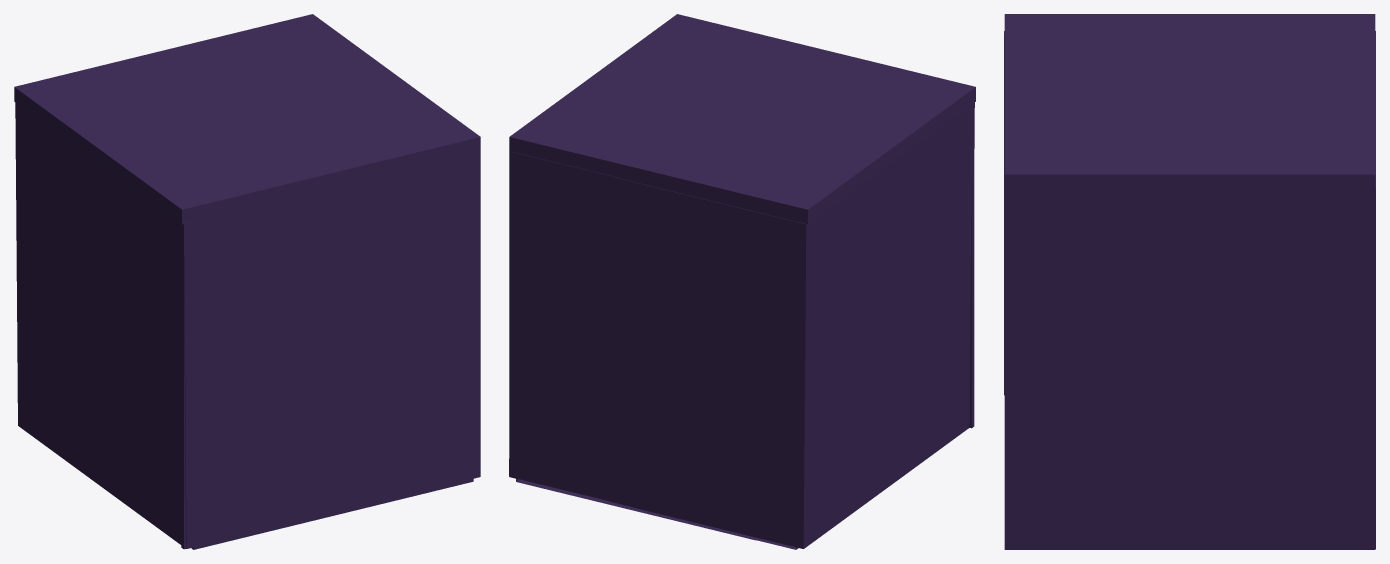
Rendered from factorywall.fbx.
The picture shows the model from 3 angles, left to right: view 1: azimuth 30°, elevation 25°; view 2: azimuth 150°, elevation 25°; view 3: azimuth 270°, elevation 25°; orthographic projection. The views are drawn at different scales.
Parts seen in each view (by area): view 1: factoryShell; view 2: factoryShell; view 3: factoryShell.
Boxes of the visible parts, x1,y1,x2,y2 form: factoryShell: [14, 14, 480, 549]; factoryShell: [509, 14, 975, 549]; factoryShell: [1004, 14, 1375, 549].
Bounding box in the file's own units: 21320 × 23400 × 20842.
